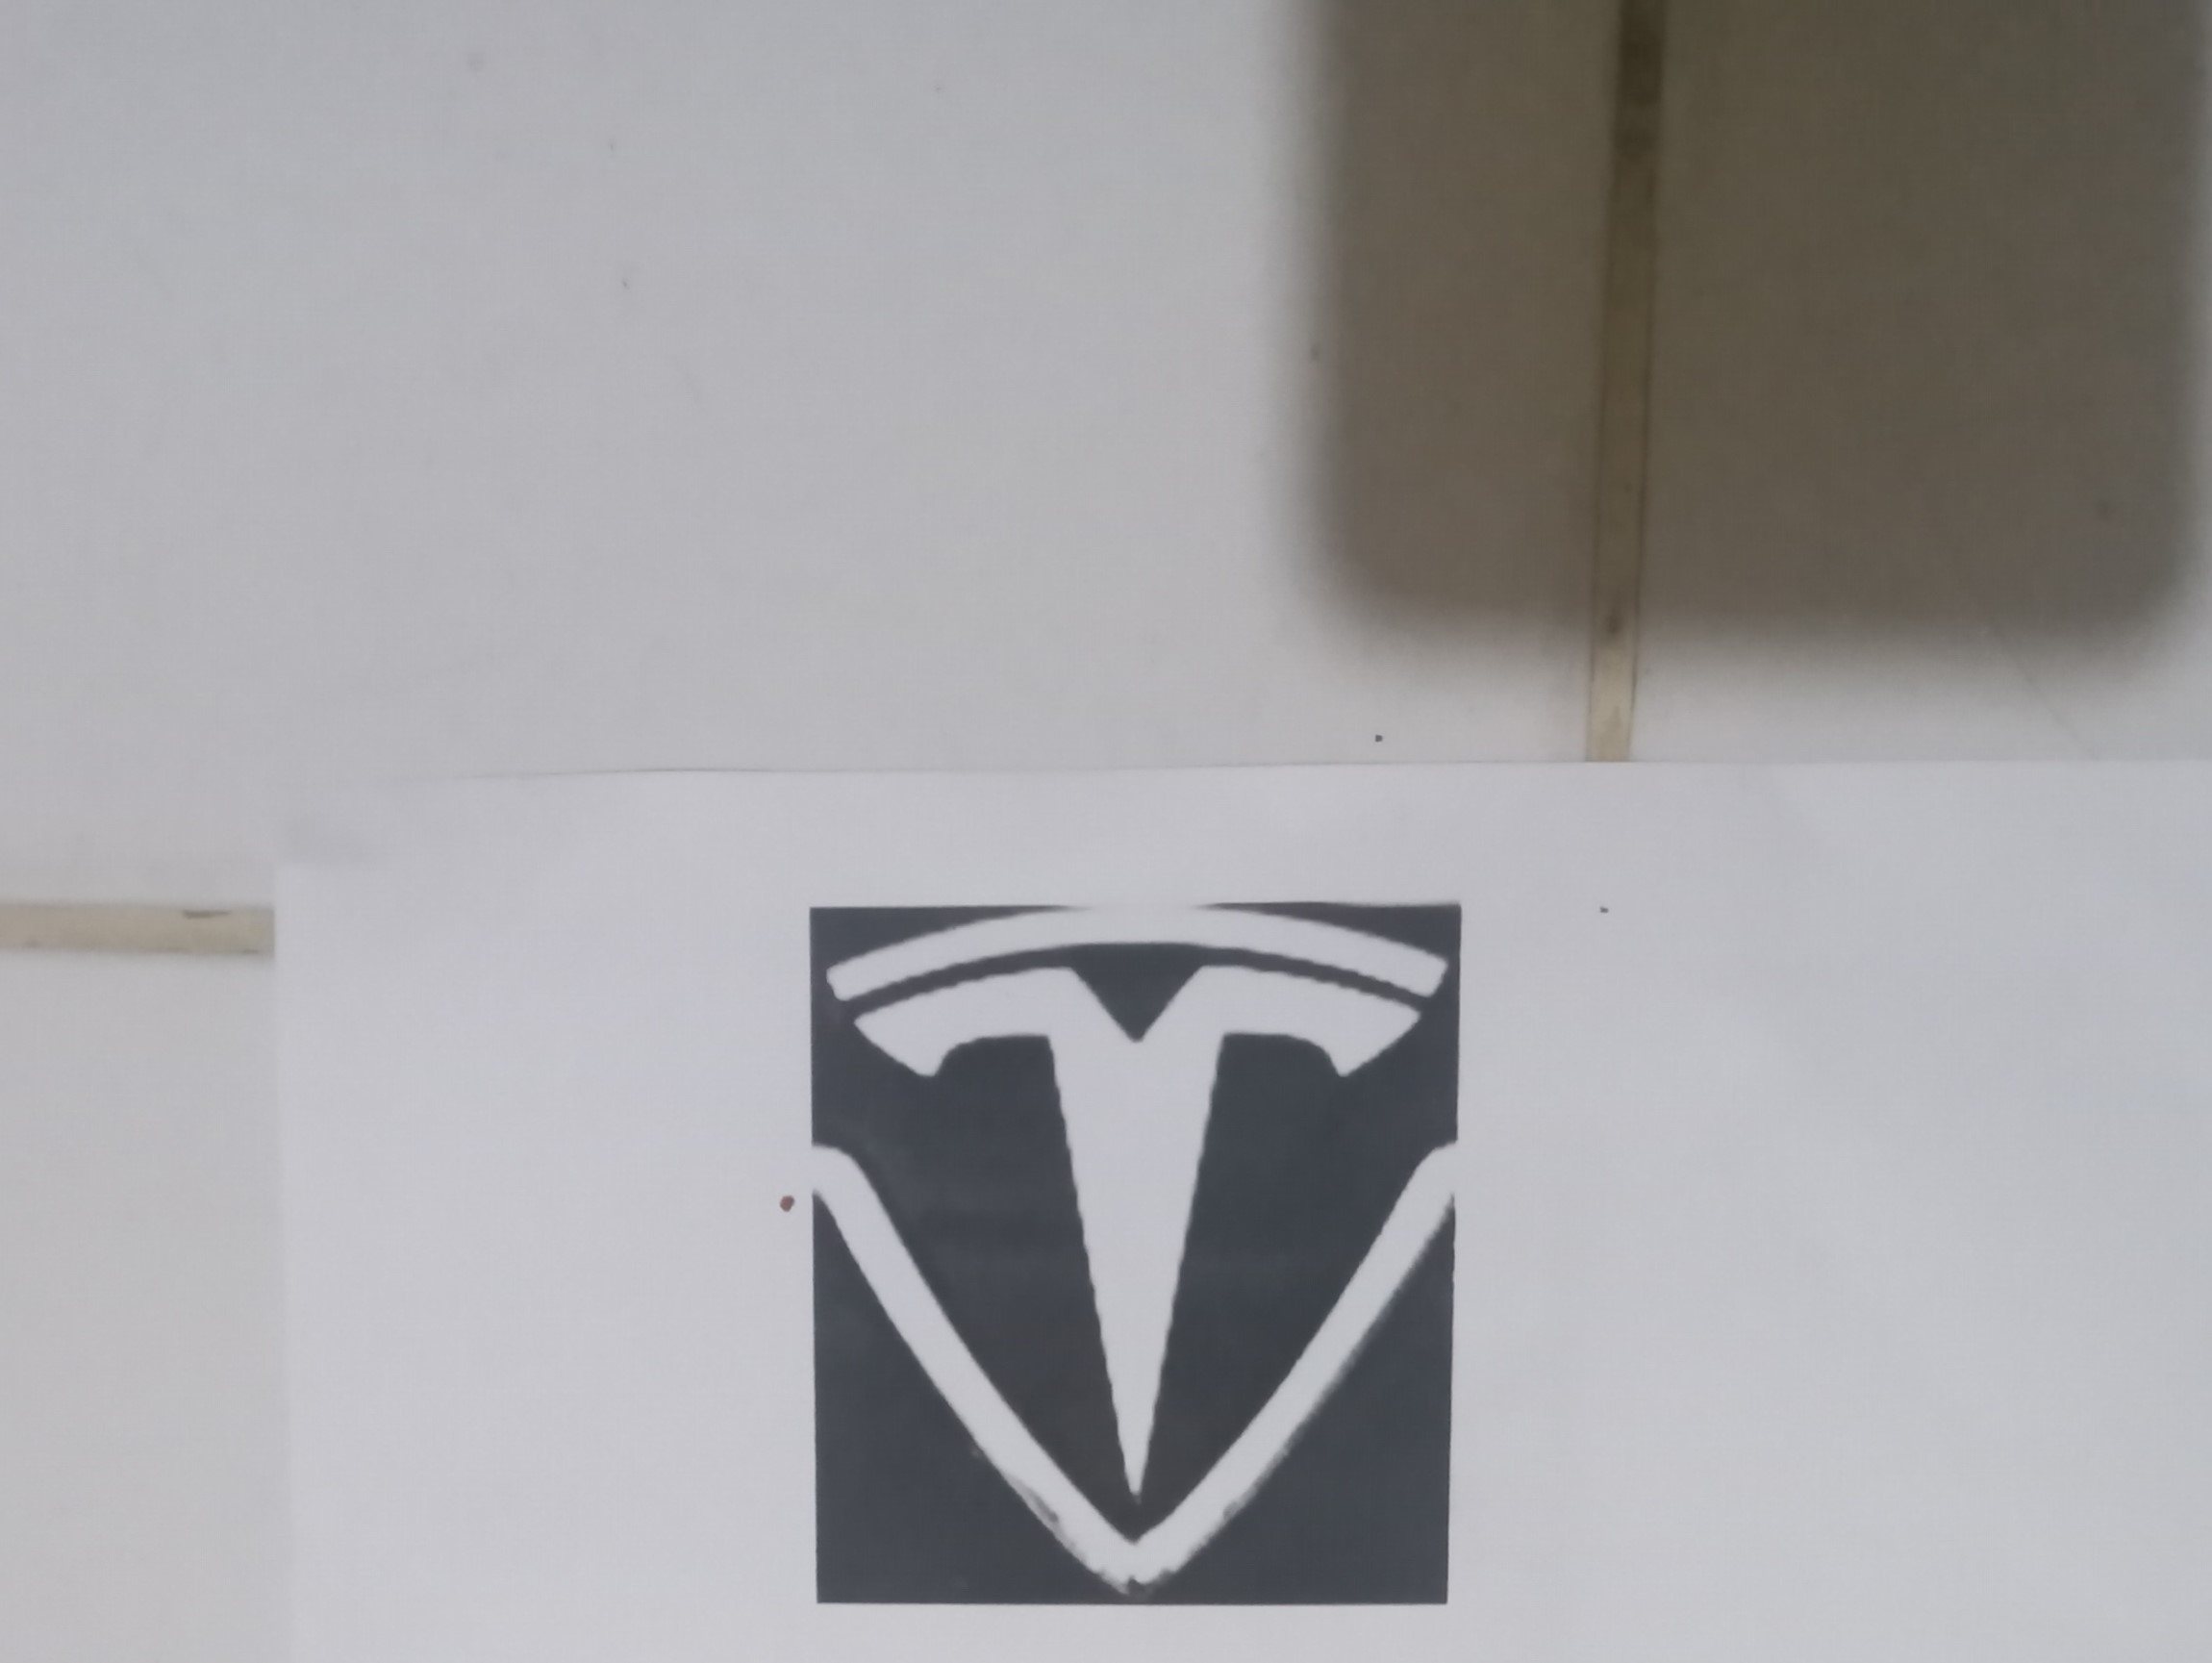Tesla: (810, 910, 1472, 1604)
